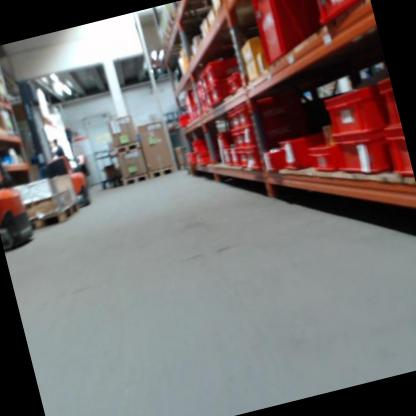pallet: (28, 201, 82, 231), (113, 140, 142, 157), (121, 173, 150, 187), (148, 166, 176, 180)
pallet_truck: (11, 66, 94, 216), (0, 101, 42, 259), (0, 101, 21, 190)
small_load_carrier: (245, 0, 321, 68), (317, 81, 389, 147), (331, 124, 392, 187), (277, 129, 325, 176), (316, 0, 374, 34), (369, 69, 401, 129), (381, 125, 414, 183), (308, 137, 346, 181), (202, 54, 243, 90), (240, 116, 282, 149), (235, 100, 277, 130), (207, 76, 240, 113), (261, 146, 294, 176), (240, 144, 269, 173), (211, 133, 232, 169), (224, 65, 245, 93), (195, 147, 220, 169), (231, 145, 251, 170), (228, 127, 251, 148), (224, 109, 244, 132), (191, 133, 213, 152), (198, 71, 214, 97), (221, 145, 238, 169), (200, 92, 217, 111), (191, 81, 206, 97), (182, 91, 196, 108), (184, 151, 198, 167), (199, 102, 209, 118), (192, 107, 202, 120)
stillage: (171, 120, 199, 178)
